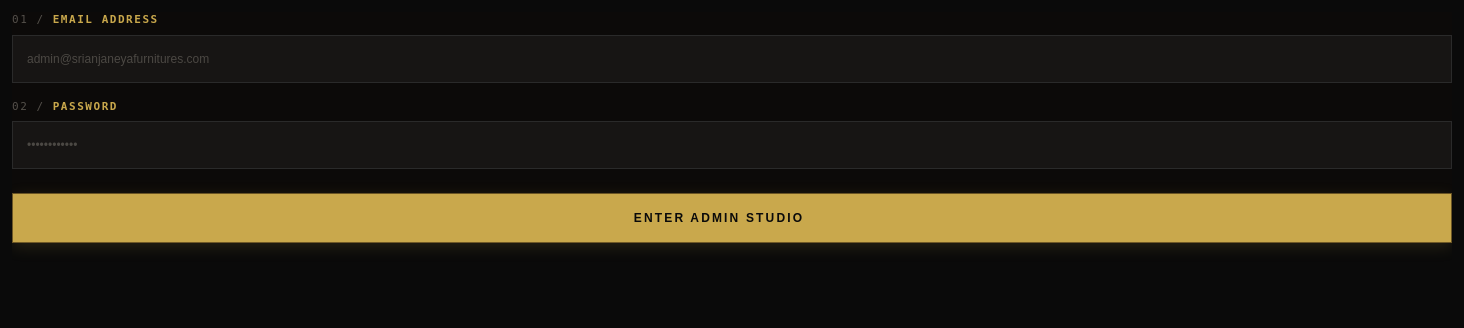
Test case: AdminLoginPage — "The Atelier Access Portal" › handles network failure with appropriate descriptive error message
In the field with placeholder "admin@srianjaneyafurnitures.com": (732, 58) [12, 34, 1452, 82], type "admin@saf.com"
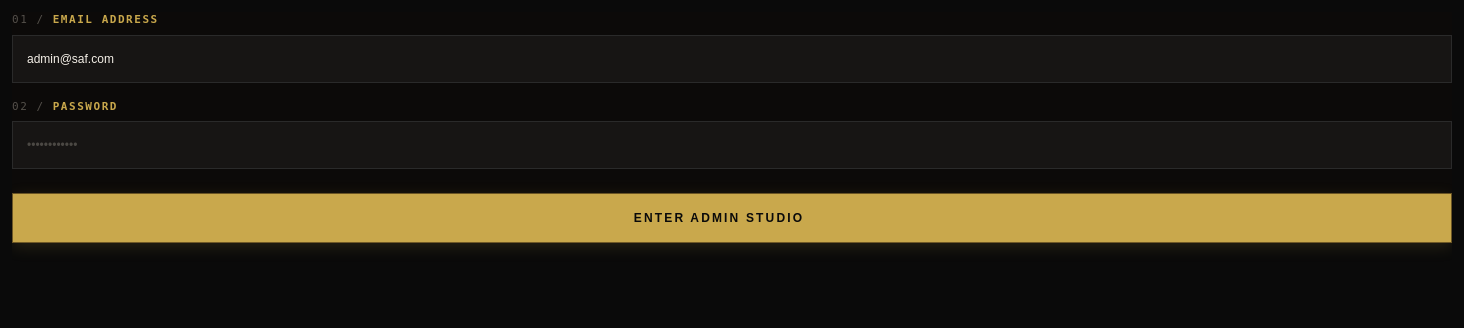
In the password field with placeholder "••••••••••••": (732, 145) [12, 121, 1452, 169], type "somepassword"
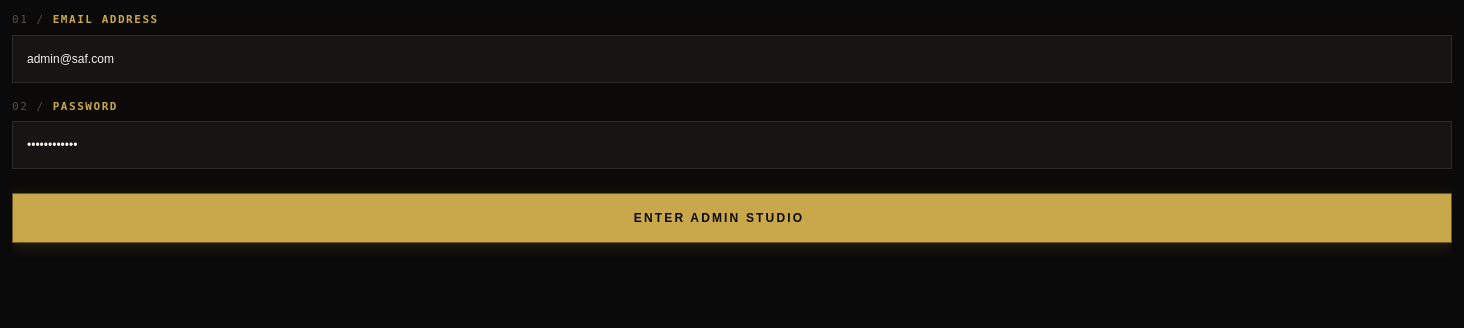
Click the button "Enter Admin Studio": (732, 218) [12, 193, 1452, 243]
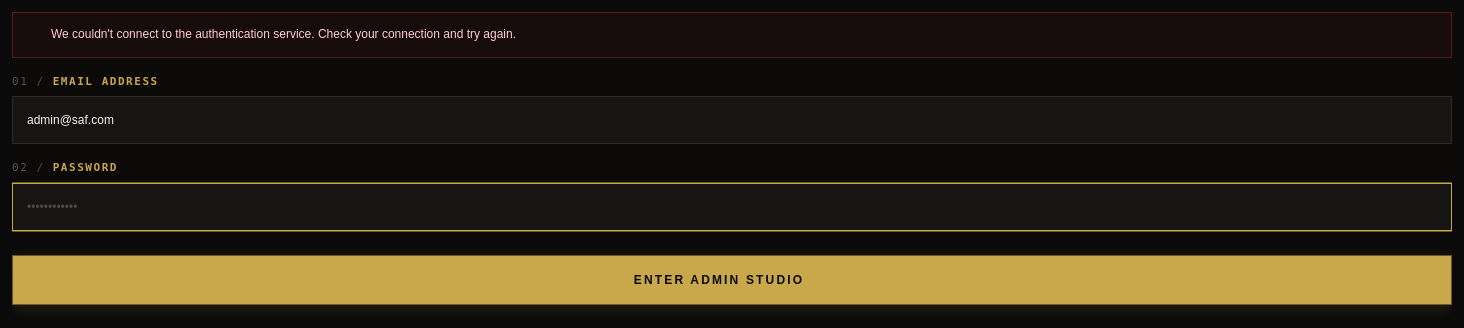
Expected: the text "We couldn't connect to the authentication service. Check your connection and try again." is shown, [51, 27, 516, 41]
